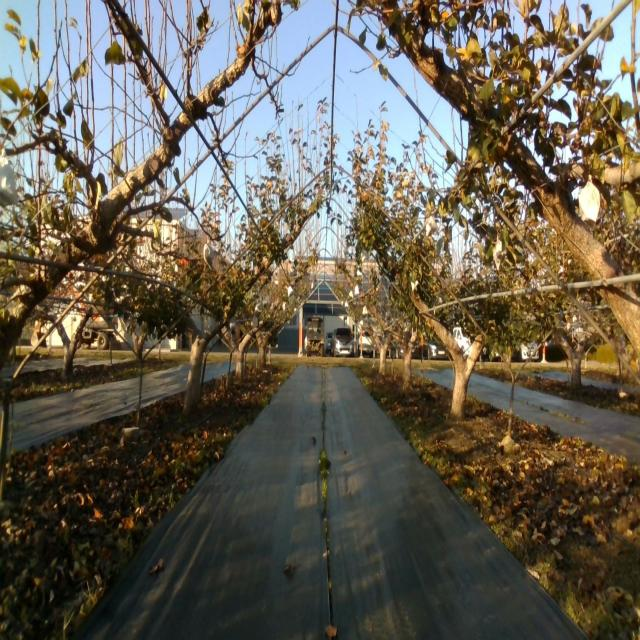pearbags: (578, 174, 600, 223), (492, 236, 508, 272), (204, 239, 214, 270), (425, 216, 439, 238)
